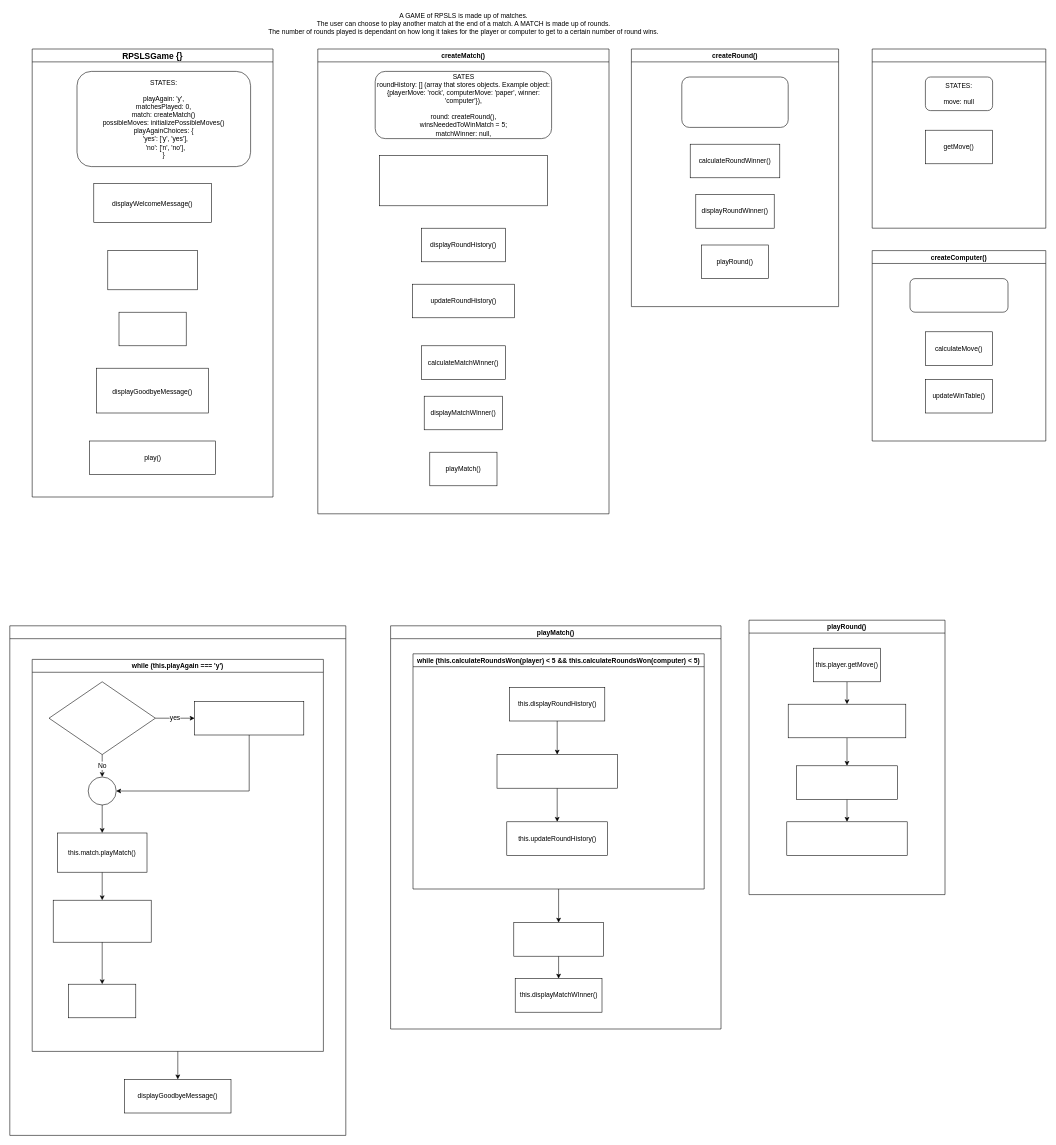
Some shapes in this 1056 by 1145 pixel diagram are drawn without their labels. The shapes that lost their labels are listed below. From the top down, each one's box as (x1, y1, x2, y2) in pixels, then its label:
(681, 76, 788, 127): STATES: player: createPlayer(), computer: createComputer(), roundWinner: null,
(872, 48, 1046, 228): createPlayer()
(379, 155, 547, 206): calculateRoundsWon() // uses this.roundHistory output: number of player wins
(107, 250, 197, 290): updateMatchesPlayed()
(909, 278, 1008, 312): STATES: move: null winTable: initializeWinTable()
(118, 312, 186, 346): getPlayAgain()
(48, 681, 155, 755): if (this.matchesPlayed === 0)
(194, 701, 304, 735): this.displayWelcomeMessage()
(788, 704, 906, 738): this.computer.calculateMove()
(496, 754, 617, 788): this.round.playRound()
(796, 765, 897, 799): this.calculateRoundWInner()
(786, 821, 907, 855): this.displayRoundWinner()
(9, 625, 346, 1135): RPSLSGame.play()
(53, 900, 151, 942): this.updateMatchesPlayed()
(513, 922, 603, 956): this.calculateMatchWinner()
(68, 984, 136, 1018): this.getPlayAgain()
